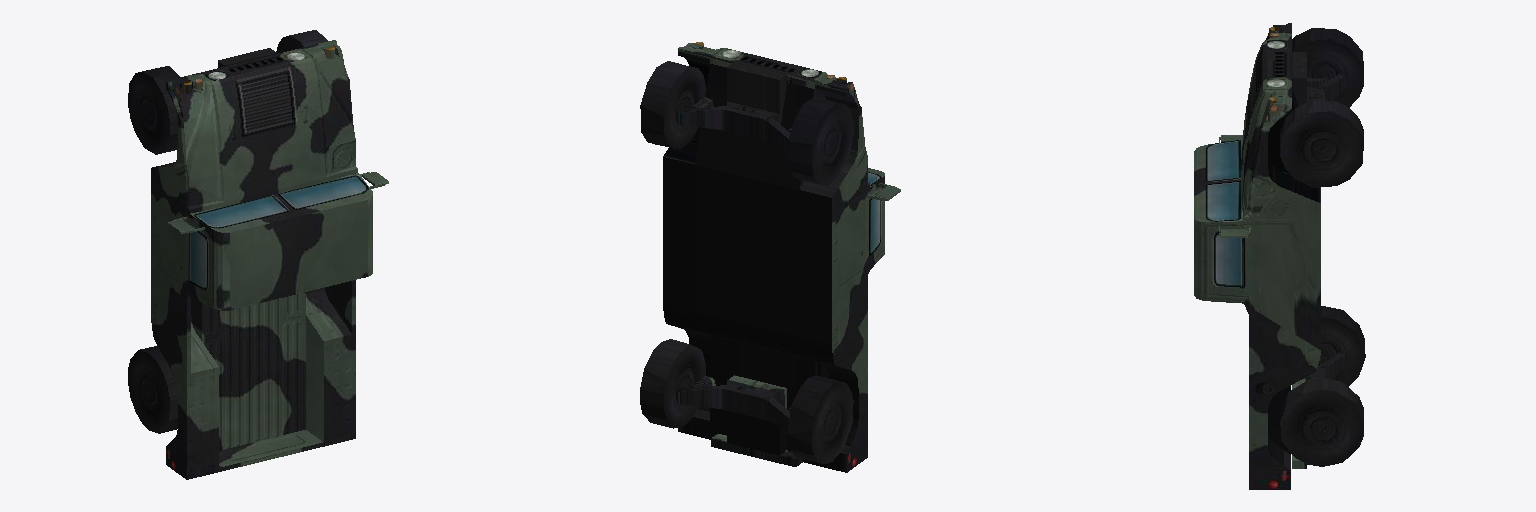
The picture shows the model from 3 angles: view 1: azimuth 30°, elevation 25°; view 2: azimuth 150°, elevation 25°; view 3: azimuth 270°, elevation 25°; orthographic projection.
Visible parts, largest first — view 1: Object__21_2_0, Object__91_2_0, Object__131_2_0, Object__191_2_0; view 2: Object__21_2_0, Object__151_2_0, Object__01_2_0, Object__131_2_0, Object__91_2_0, Object__231_2_0, Object__191_2_0; view 3: Object__21_2_0, Object__191_2_0, Object__231_2_0, Object__91_2_0, Object__131_2_0, Object__01_2_0, Object__151_2_0.
Boxes of the visible parts, x1=… form: Object__21_2_0: x1=151, y1=40, x2=372, y2=479; Object__91_2_0: x1=128, y1=66, x2=179, y2=154; Object__131_2_0: x1=128, y1=346, x2=177, y2=433; Object__191_2_0: x1=276, y1=30, x2=327, y2=53; Object__21_2_0: x1=663, y1=43, x2=884, y2=472; Object__151_2_0: x1=676, y1=375, x2=802, y2=466; Object__01_2_0: x1=676, y1=62, x2=791, y2=149; Object__131_2_0: x1=787, y1=375, x2=853, y2=463; Object__91_2_0: x1=788, y1=97, x2=853, y2=185; Object__231_2_0: x1=640, y1=339, x2=705, y2=428; Object__191_2_0: x1=640, y1=61, x2=705, y2=149; Object__21_2_0: x1=1194, y1=23, x2=1320, y2=489; Object__191_2_0: x1=1280, y1=100, x2=1363, y2=187; Object__231_2_0: x1=1280, y1=378, x2=1363, y2=466; Object__91_2_0: x1=1292, y1=28, x2=1363, y2=107; Object__131_2_0: x1=1320, y1=306, x2=1365, y2=386; Object__01_2_0: x1=1292, y1=52, x2=1344, y2=106; Object__151_2_0: x1=1292, y1=353, x2=1344, y2=468.
Bounding box in the file's own units: 0.5664 × 1 × 0.4039.
Materials: 12 (1 with a texture image).